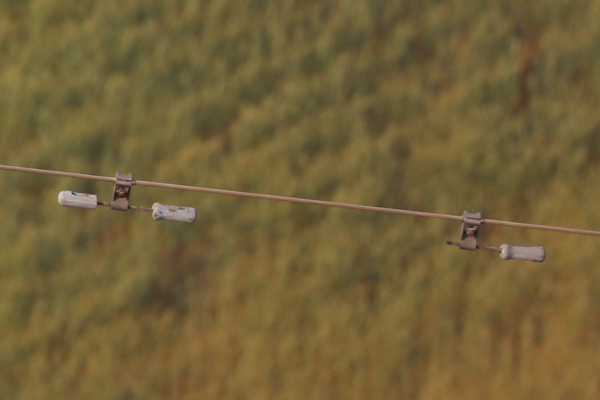damper: (56, 167, 200, 228)
damper_defect: (439, 208, 552, 266)
